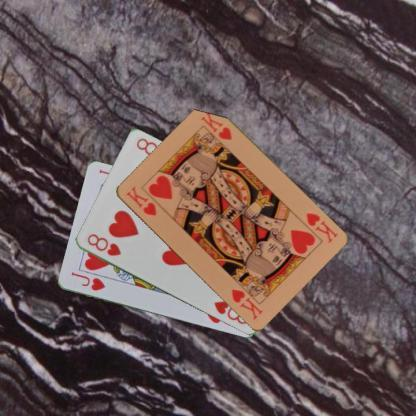8h: (84, 231, 122, 258)
Jh: (68, 270, 106, 292)
Kh: (302, 209, 339, 244), (124, 183, 159, 218)
